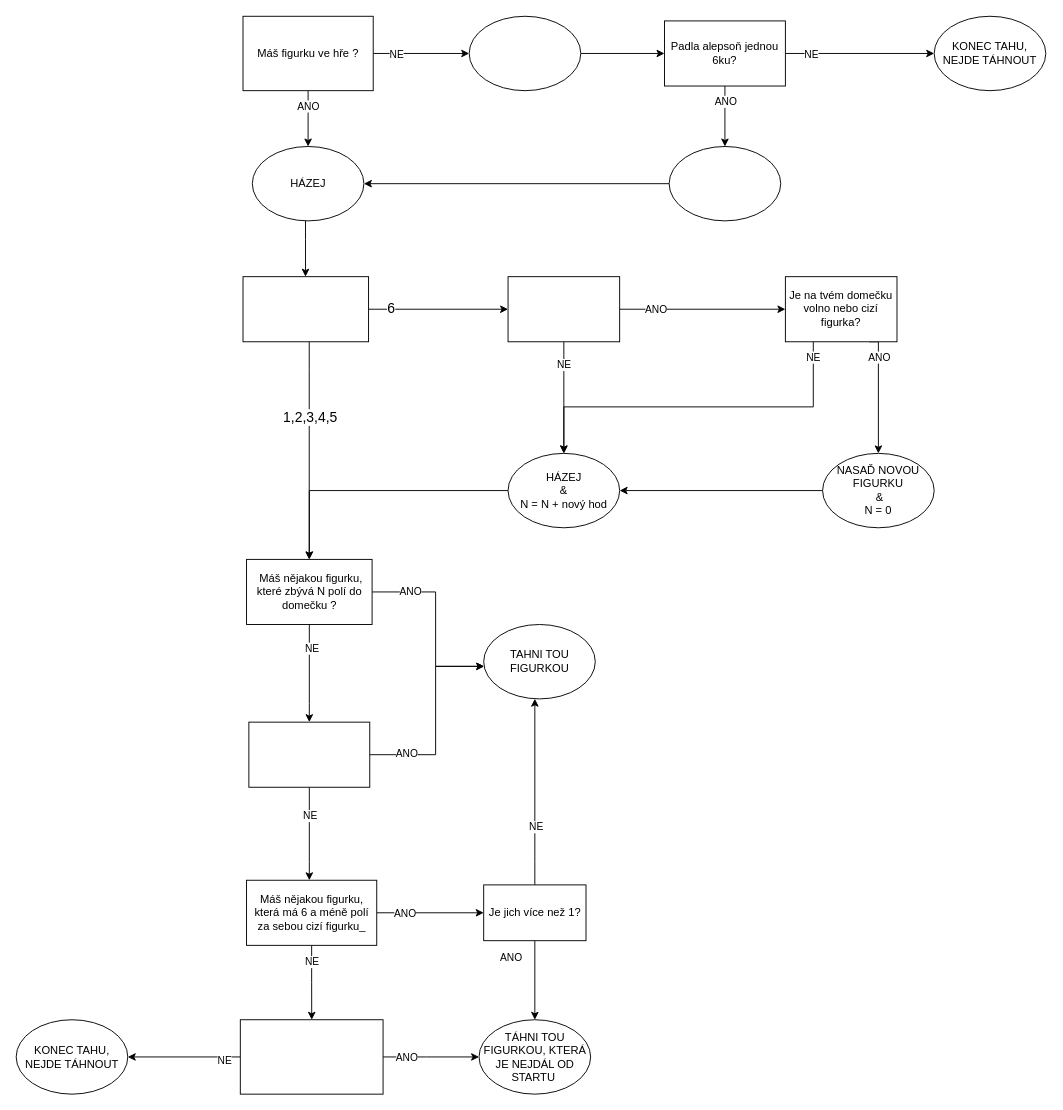
Image size: 1063x1110. Some labels were removed from this diagram. Here are the shapes that lost their labels. From the top down, the centre of each, then its label:
[524,53]: HÁZEJ 3x
[724,183]: NASAĎ NOVOU FIGURKU
[305,309]: Kolik padlo na kostce ? (dále jako N)
[563,309]: Chceš nasadit novou figurku?
[309,754]: Máš nějakou figurku která má N polí před sebou cizí figurku?
[311,1056]: Máš nějakou figurku, která může táhnout?
